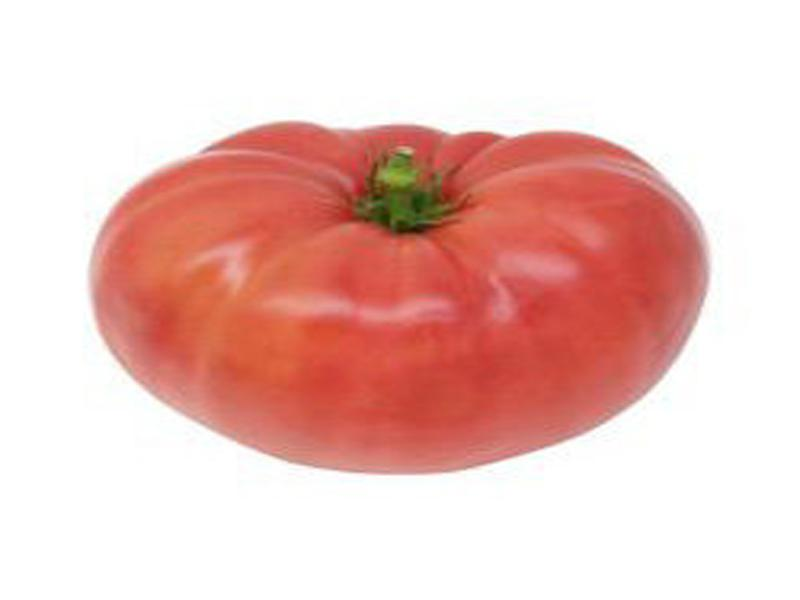Tomato: (89, 130, 706, 470)
